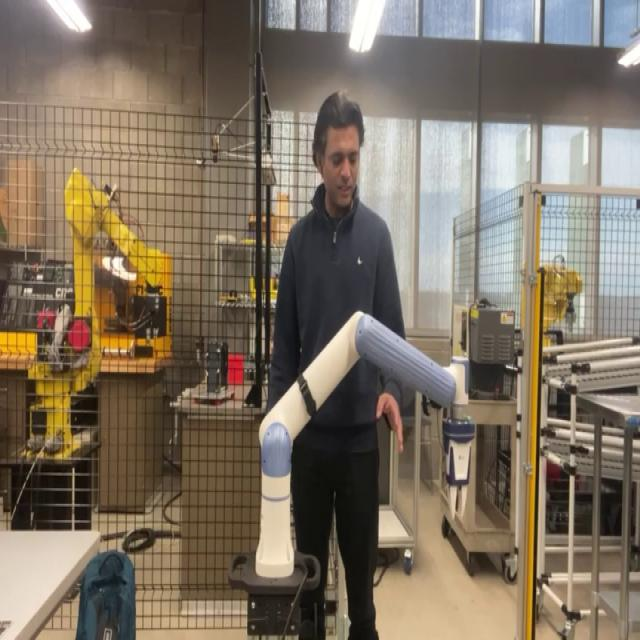robot: (227, 308, 457, 637)
